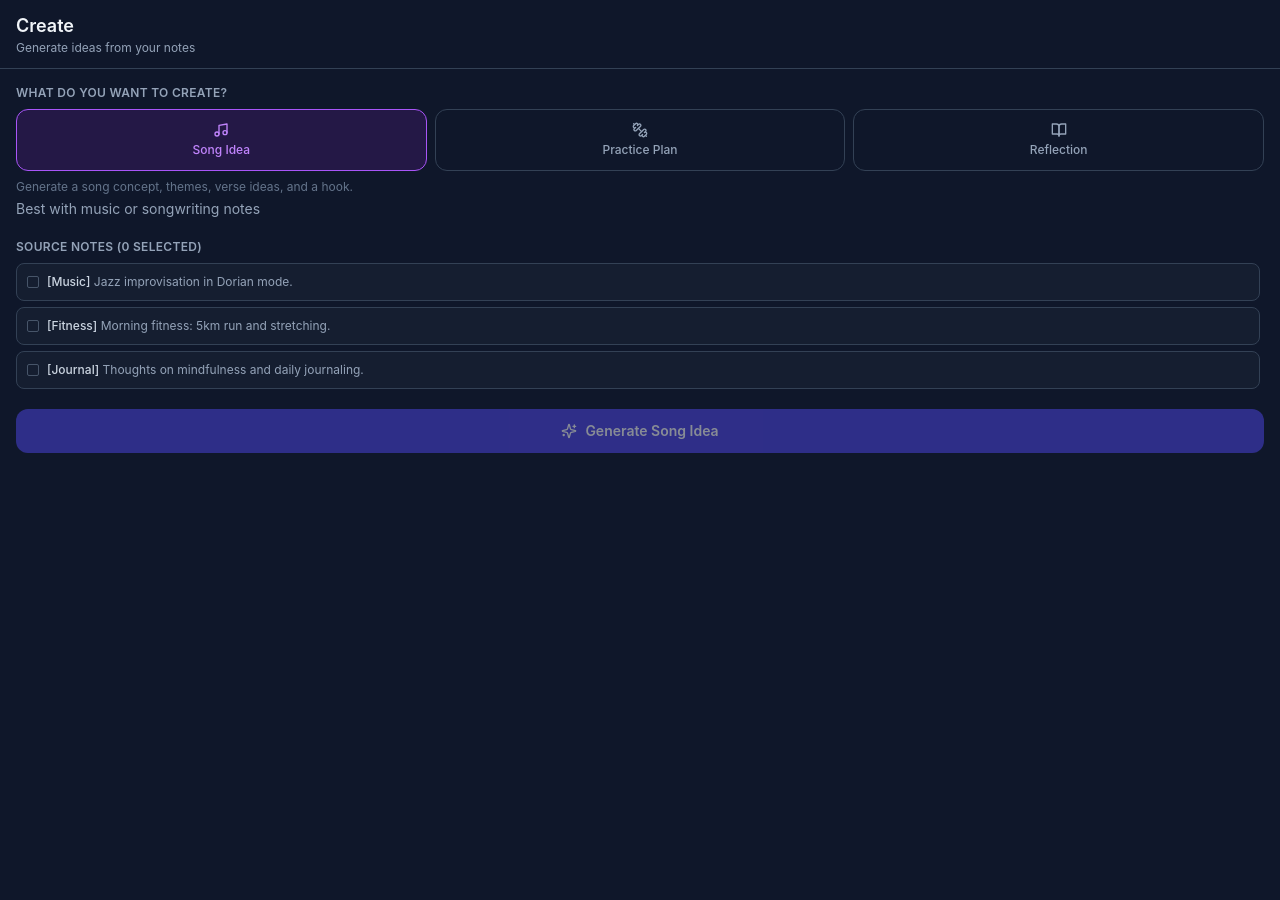
it: CreatePage (Task 5.3) › Copy button writes generated text to clipboard
The width and height of the screenshot is (1280, 900).
What coordinates should you click on to do the following:
click the button "[Music] Jazz improvisation in Dorian mode."
I would click on:
 (69, 282)
Its box is [16,263,1260,301].
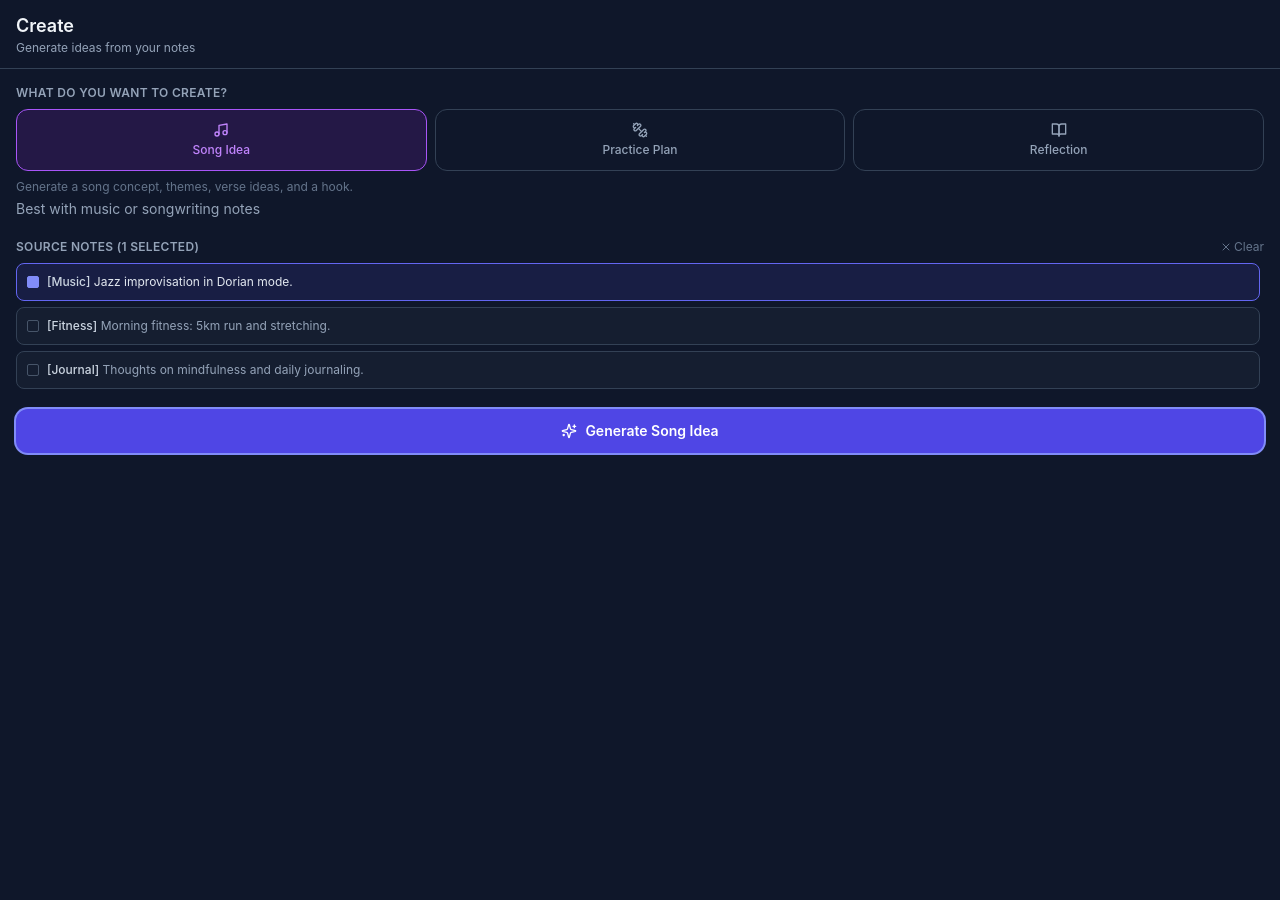
What coordinates should you click on to do the following:
click the button "Generate Song Idea"
I would click on:
 (640, 431)
Its box is [16,409,1264,453].
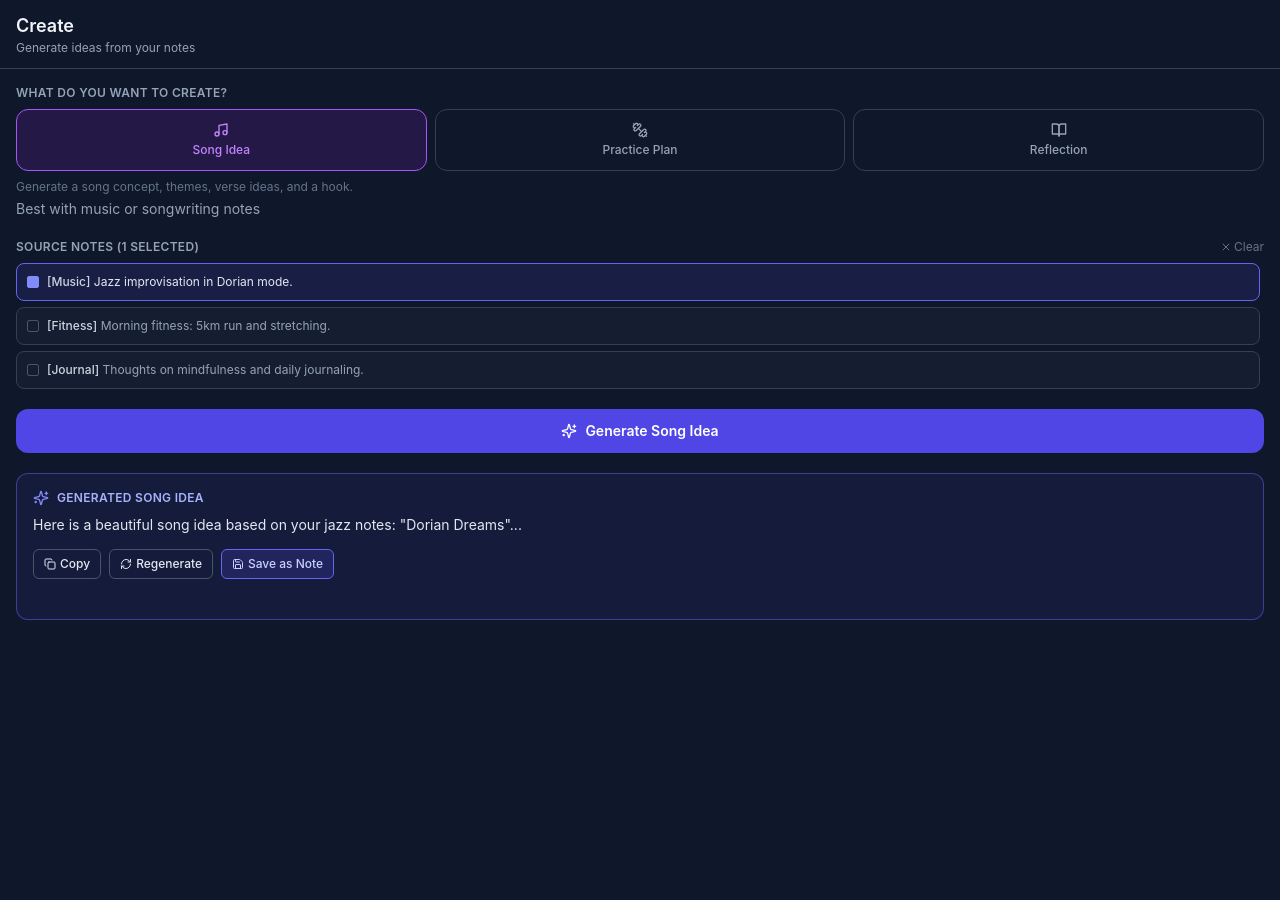
expect the text "Dorian Dreams" is shown: met, box [33,516,522,533]
What coordinates should you click on to do the following:
click the button "Copy"
I would click on:
 (67, 564)
Its box is [33,549,101,579].
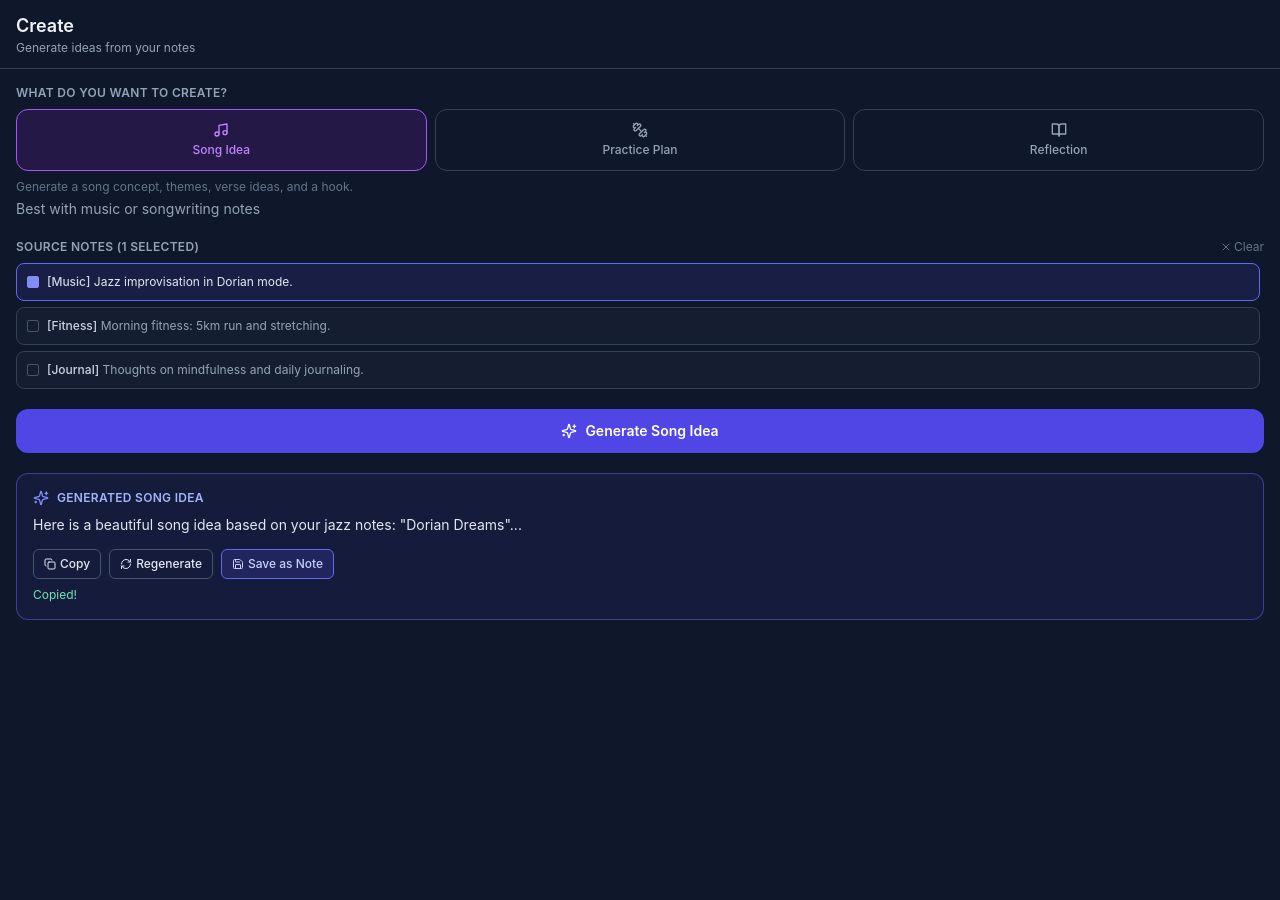
expect the text "Copied" is shown: met, box [33,587,77,602]
